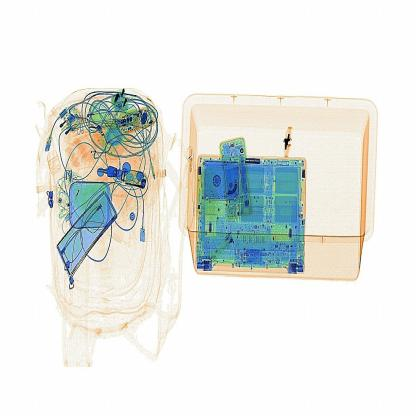gun: (279, 115, 303, 168)
